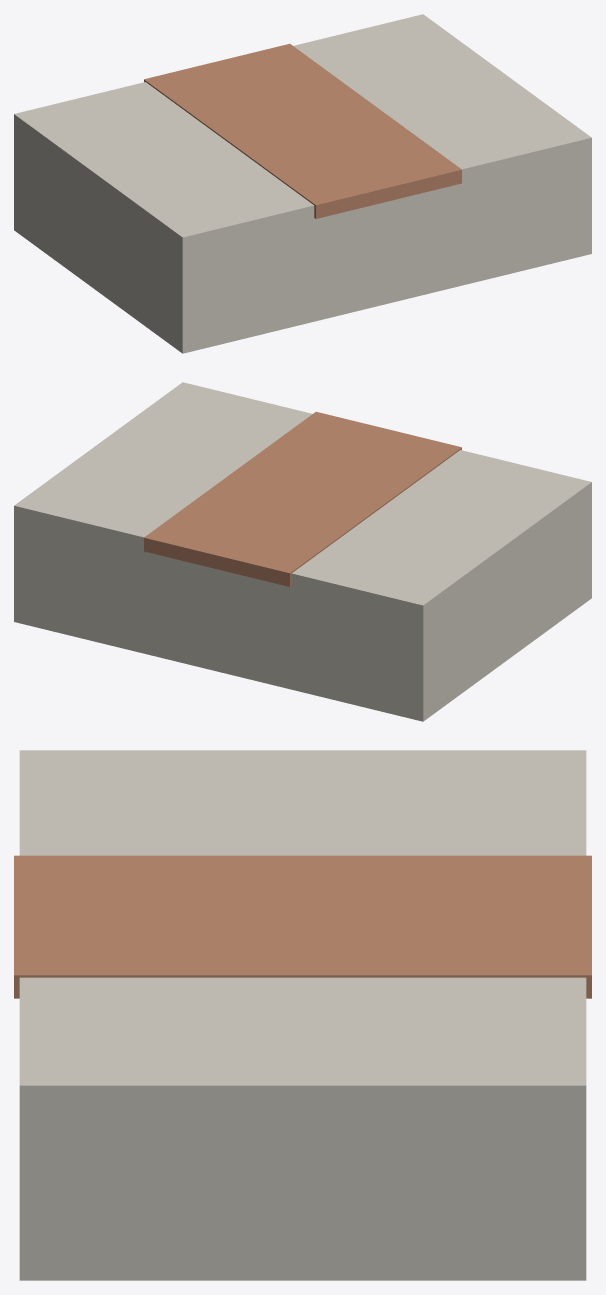
Rendered from mesa_toalha.glb.
The picture shows the model from 3 angles, top to bottom: view 1: azimuth 30°, elevation 25°; view 2: azimuth 150°, elevation 25°; view 3: azimuth 270°, elevation 25°; orthographic projection. The views are drawn at different scales.
Parts seen in each view (by area): view 1: MESA_TOALHA_v01; view 2: MESA_TOALHA_v01; view 3: MESA_TOALHA_v01.
Part boxes in pixels (bbox=[...]): MESA_TOALHA_v01: bbox=[14, 14, 591, 353]; MESA_TOALHA_v01: bbox=[14, 382, 591, 721]; MESA_TOALHA_v01: bbox=[14, 750, 591, 1280].
Bounding box in the file's own units: 1.4 × 0.3845 × 1.02.
